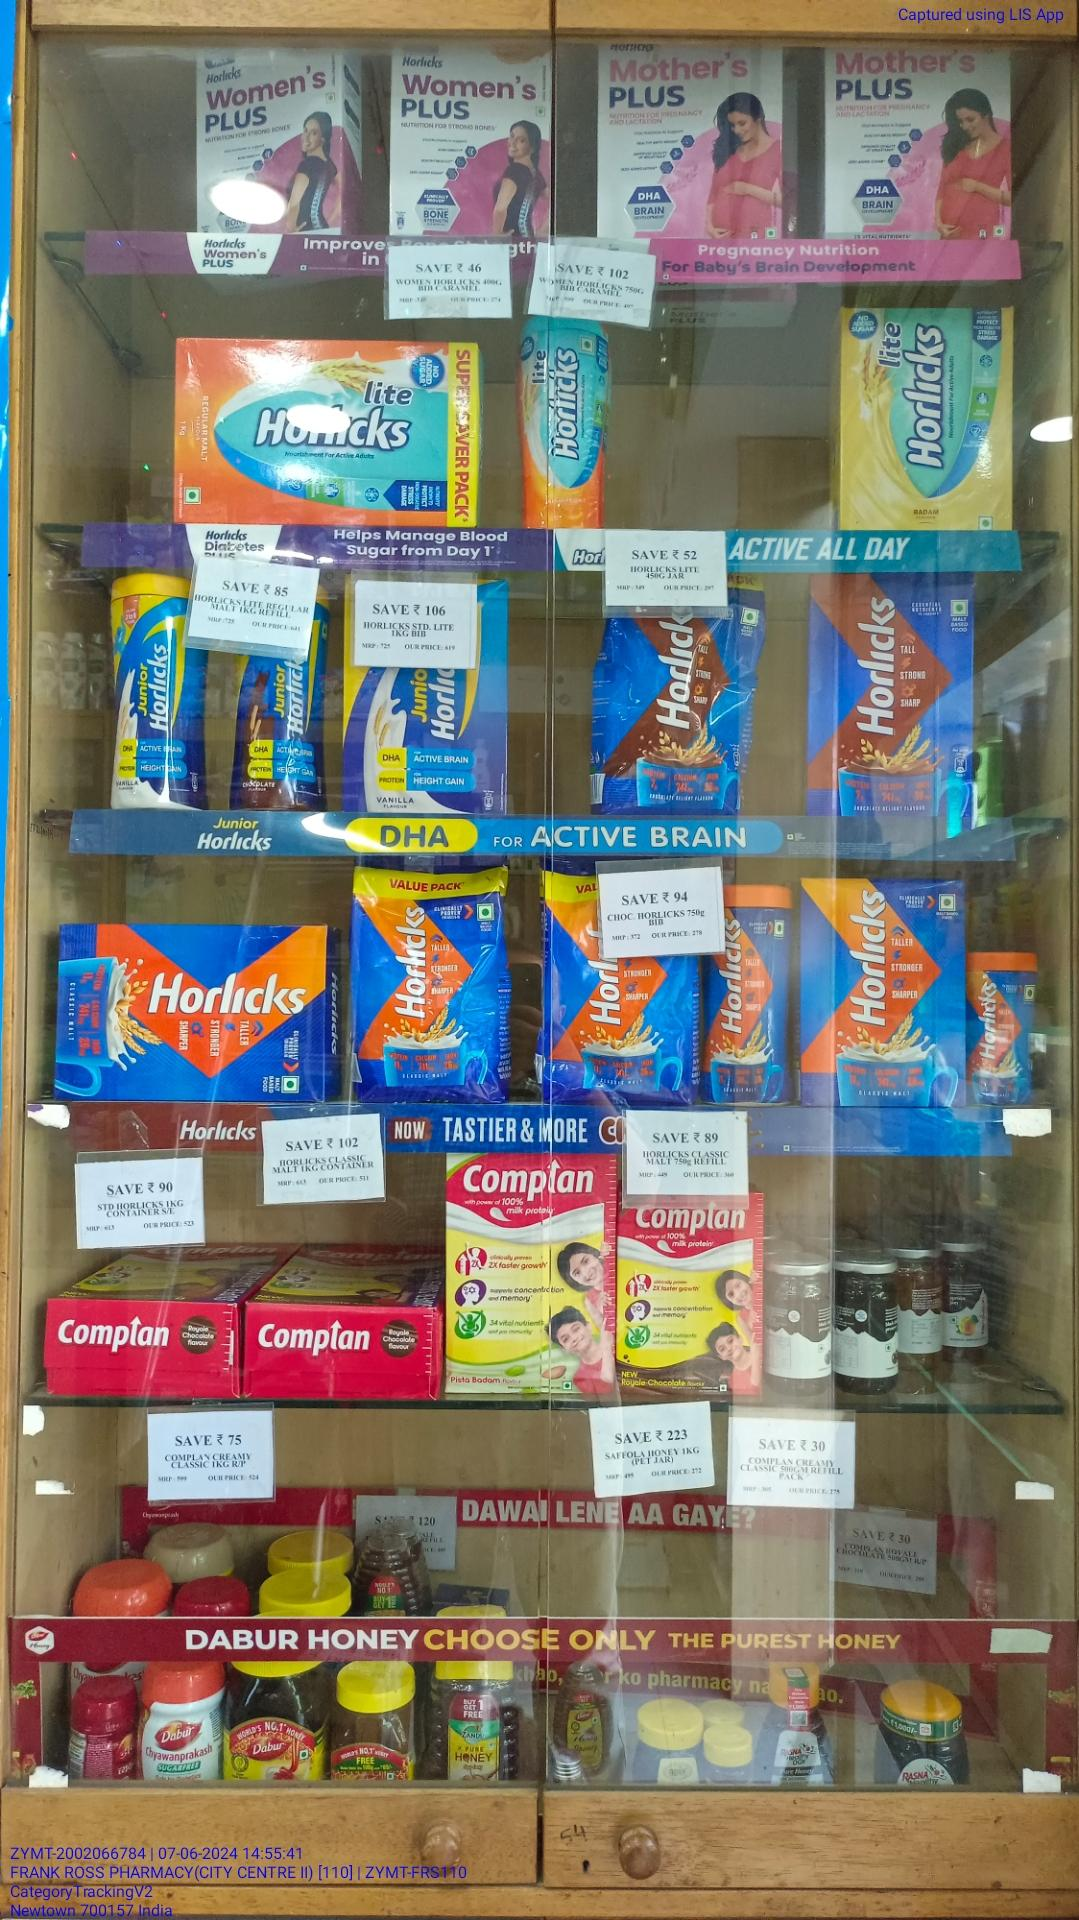COMPLAN_CHOCOLATE_200_GMS_PACK: (620, 1207, 765, 1395)
COMPLAN_PISTA_BADAM_500_GMS_PACK: (445, 1150, 613, 1403)
HORLICKS_JUNIOR_VANILLA_500_GM_JAR: (104, 579, 198, 808)
HORLICKS_LITE_REGULAR_MALT_500_GM_JAR: (516, 316, 607, 531)
HORLICK_CHOCOLATE_1_KG_PACK: (803, 568, 977, 811)
HORLICK_CHOCOLATE_750_G_POUCH: (595, 616, 745, 816)
HORLICK_CLASSIC_MALT_200_G_JAR: (971, 948, 1033, 1101)
HORLICK_CLASSIC_MALT_500_G_JAR: (702, 889, 789, 1106)
HORLICK_CLASSIC_MALT_500_G_PACK: (794, 880, 963, 1105)
HORLICK_CLASSIC_MALT_750_G_POUCH: (351, 865, 501, 1106)
